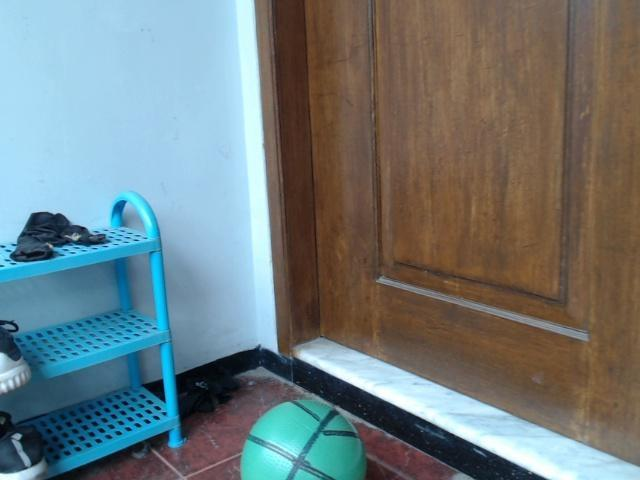Sports-Ball: (236, 398, 367, 480)
